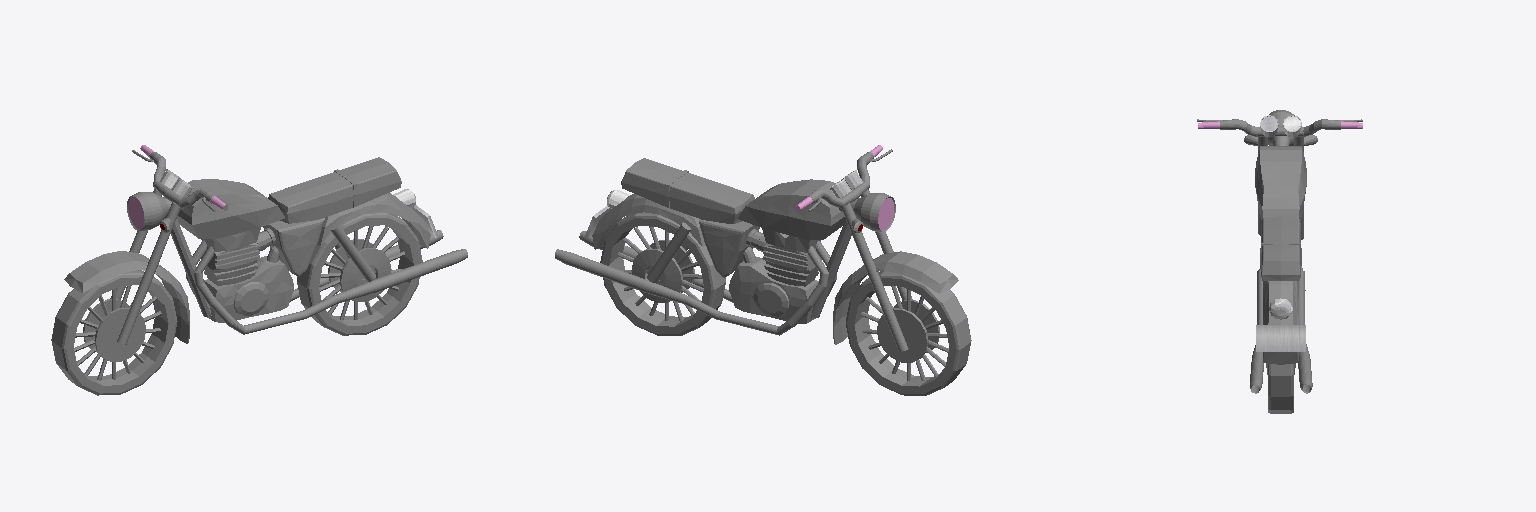
3 renders of one model, left to right at view 1: azimuth 30°, elevation 25°; view 2: azimuth 150°, elevation 25°; view 3: azimuth 270°, elevation 25°, orthographic.
Parts seen in each view (by area): view 1: Front_wheel_Cylinder_016, Rear_wheel_Cylinder_023, Seat_Cube_001, Gas_Tank_Cube, Exhaust_right_Cylinder, Front_water_Cube_006, Engine_1_Cube_002, Engine_2_Cube_003, Engine_3_Cube_004, Rear_water_Cube_005, Front_bumper_right_Cylinder_002, Front_wheel_inside_Cylinder_019 (+7 smaller); view 2: Front_wheel_Cylinder_016, Rear_wheel_Cylinder_023, Seat_Cube_001, Gas_Tank_Cube, Exhaust_left_Cylinder_027, Front_water_Cube_006, Engine_1_Cube_002, Engine_2_Cube_003, Engine_3_Cube_004, Rear_water_Cube_005, Front_bumper_left_Cylinder_004, Front_wheel_inside_Cylinder_019 (+7 smaller); view 3: Gas_Tank_Cube, Seat_Cube_001, Rear_water_Cube_005, Licence_plate_Cube_007, Rear_wheel_Cylinder_023, Steering_Cylinder_009, Gauges_Cylinder_010.
Boxes of the visible parts, box(x1,y1,x2,y2) form: Front_wheel_Cylinder_016: box(51, 270, 177, 395); Rear_wheel_Cylinder_023: box(297, 212, 422, 335); Seat_Cube_001: box(268, 157, 401, 223); Gas_Tank_Cube: box(177, 179, 284, 239); Exhaust_right_Cylinder: box(194, 245, 467, 334); Front_water_Cube_006: box(64, 251, 189, 343); Engine_1_Cube_002: box(201, 227, 260, 285); Engine_2_Cube_003: box(204, 256, 293, 322); Engine_3_Cube_004: box(263, 218, 324, 276); Rear_water_Cube_005: box(317, 193, 430, 248); Front_bumper_right_Cylinder_002: box(117, 202, 180, 344); Front_wheel_inside_Cylinder_019: box(74, 285, 161, 380); Front_wheel_Cylinder_016: box(846, 270, 971, 395); Rear_wheel_Cylinder_023: box(600, 212, 725, 335); Seat_Cube_001: box(621, 158, 754, 223); Gas_Tank_Cube: box(738, 179, 845, 239); Exhaust_left_Cylinder_027: box(555, 246, 828, 335); Front_water_Cube_006: box(833, 251, 958, 344); Engine_1_Cube_002: box(762, 228, 821, 286); Engine_2_Cube_003: box(729, 256, 818, 323); Engine_3_Cube_004: box(698, 219, 759, 277); Rear_water_Cube_005: box(592, 194, 704, 249); Front_bumper_left_Cylinder_004: box(842, 203, 908, 351); Front_wheel_inside_Cylinder_019: box(861, 286, 948, 380); Gas_Tank_Cube: box(1255, 146, 1306, 220); Seat_Cube_001: box(1260, 216, 1301, 280); Rear_water_Cube_005: box(1263, 281, 1298, 364); Licence_plate_Cube_007: box(1256, 325, 1305, 351); Rear_wheel_Cylinder_023: box(1266, 363, 1295, 413); Steering_Cylinder_009: box(1198, 119, 1362, 136); Gauges_Cylinder_010: box(1260, 115, 1301, 137).
Bounding box in the file's own units: 7.89 × 3.83 × 2.85.
Materials: 6 (1 with a texture image).